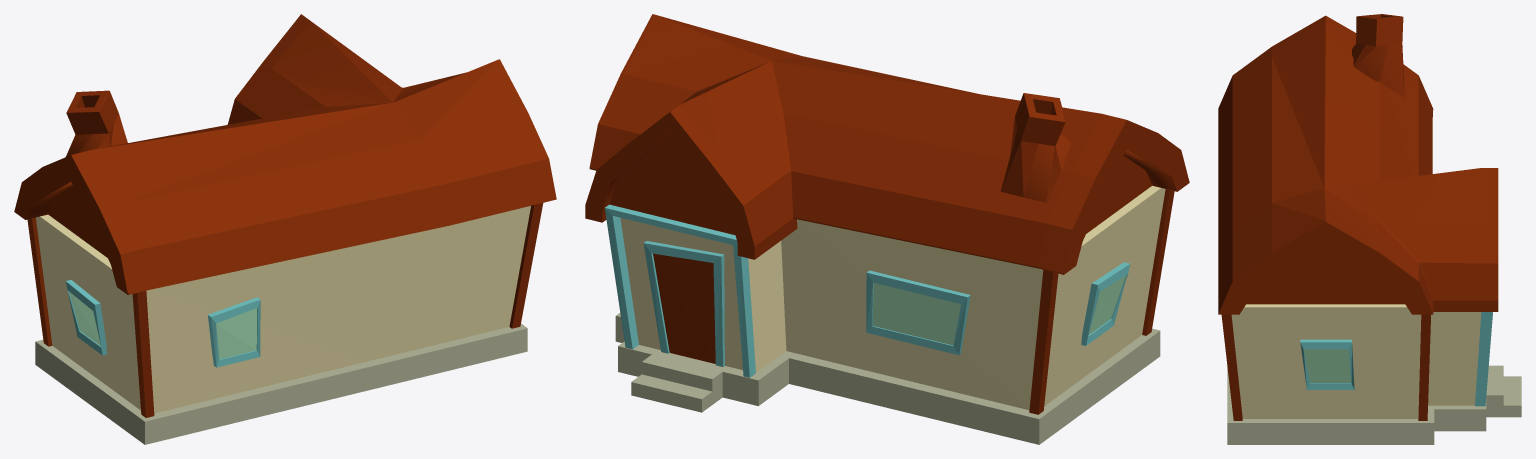
The model's file is House.glb.
3 views of the same model, side by side, from view 1: azimuth 30°, elevation 25°; view 2: azimuth 150°, elevation 25°; view 3: azimuth 270°, elevation 25° (orthographic). The views are drawn at different scales.
Visible parts, largest first — view 1: House; view 2: House; view 3: House.
Part boxes in pixels (bbox=[...]): House: bbox=[14, 14, 556, 444]; House: bbox=[585, 14, 1189, 444]; House: bbox=[1218, 14, 1521, 444].
Bounding box in the file's own units: 2.17 × 1.38 × 1.41.
